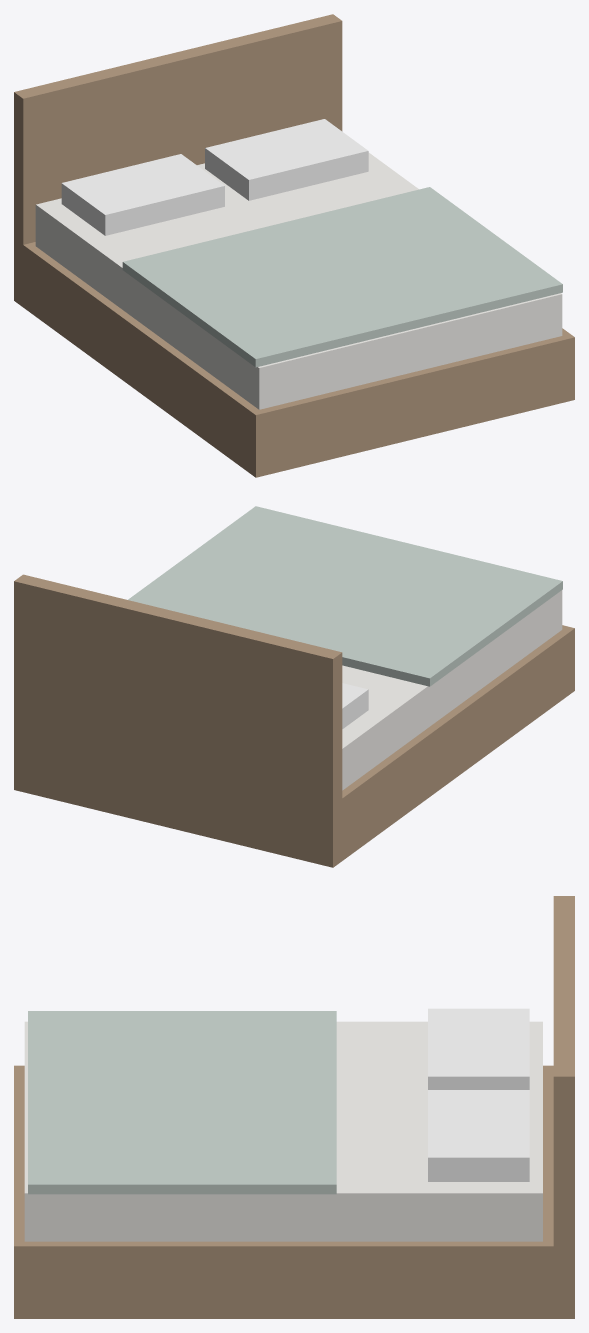
The model's file is bed.glb.
3 renders of one model, top to bottom at view 1: azimuth 30°, elevation 25°; view 2: azimuth 150°, elevation 25°; view 3: azimuth 270°, elevation 25°, orthographic. The views are drawn at different scales.
Visible parts, largest first — view 1: Bed_Blanket, Bed_Frame, Bed_Headboard, Bed_Mattress, Bed_Pillow_R, Bed_Pillow_L; view 2: Bed_Headboard, Bed_Blanket, Bed_Frame, Bed_Mattress, Bed_Pillow_L; view 3: Bed_Blanket, Bed_Frame, Bed_Mattress, Bed_Pillow_R, Bed_Headboard, Bed_Pillow_L.
Boxes of the visible parts, bbox=[...] form: Bed_Blanket: bbox=[122, 187, 562, 367]; Bed_Frame: bbox=[14, 238, 574, 477]; Bed_Headboard: bbox=[14, 14, 342, 306]; Bed_Mattress: bbox=[35, 152, 562, 409]; Bed_Pillow_R: bbox=[205, 119, 368, 200]; Bed_Pillow_L: bbox=[61, 154, 224, 235]; Bed_Headboard: bbox=[14, 574, 342, 866]; Bed_Blanket: bbox=[128, 506, 562, 686]; Bed_Frame: bbox=[14, 625, 574, 867]; Bed_Mattress: bbox=[342, 590, 562, 790]; Bed_Pillow_L: bbox=[342, 683, 368, 728]; Bed_Blanket: bbox=[28, 1011, 336, 1194]; Bed_Frame: bbox=[14, 1065, 574, 1318]; Bed_Mattress: bbox=[24, 1021, 542, 1241]; Bed_Pillow_R: bbox=[428, 1090, 529, 1181]; Bed_Headboard: bbox=[553, 896, 574, 1318]; Bed_Pillow_L: bbox=[428, 1008, 529, 1089].
Size of the model in its own units: 1.6 by 1 by 2.1.
